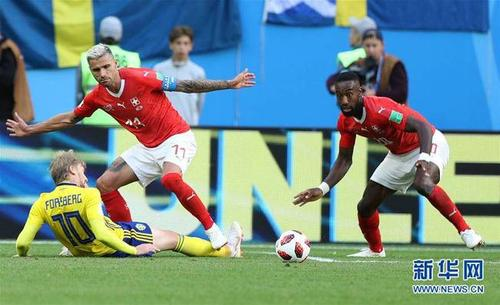fall: (6, 147, 247, 259)
